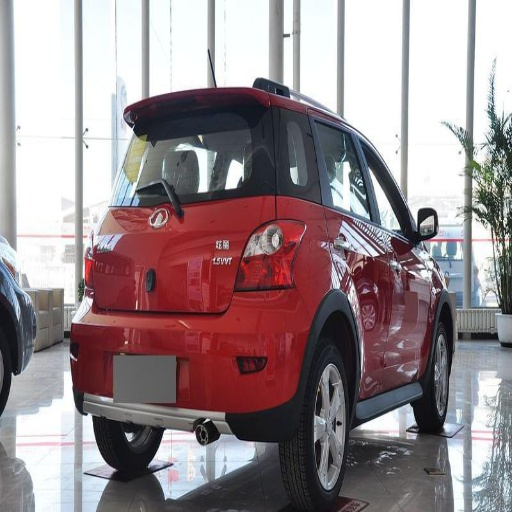back_bumper: (87, 286, 316, 419)
back_right_door: (286, 107, 390, 378)
trunk: (98, 201, 273, 350)
